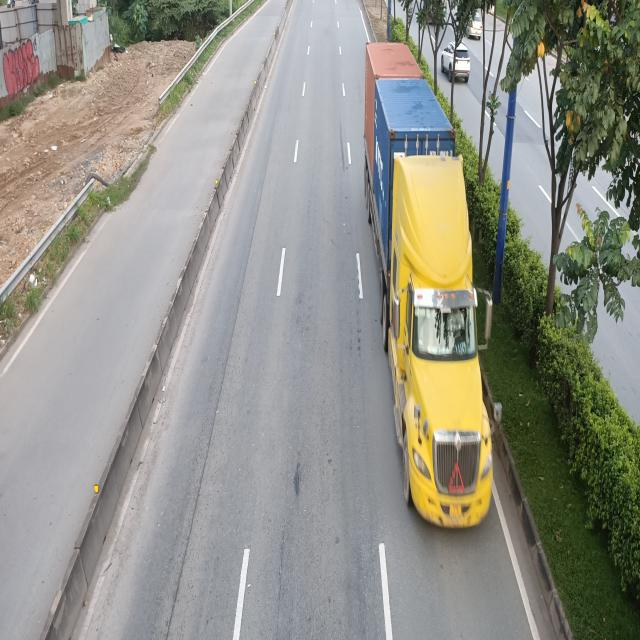container: (366, 35, 493, 530)
